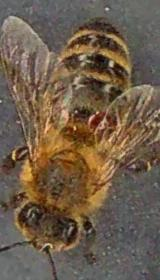varroa_mite: (79, 106, 115, 135)
